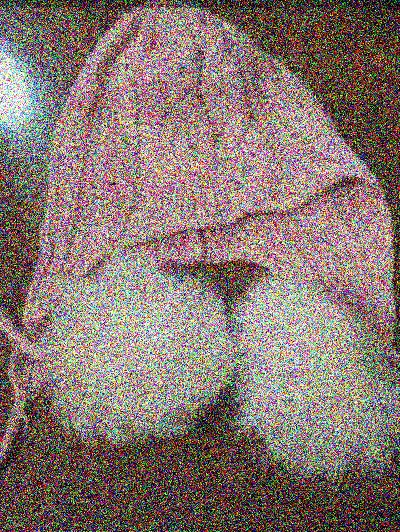Hat: (2, 1, 391, 481)
